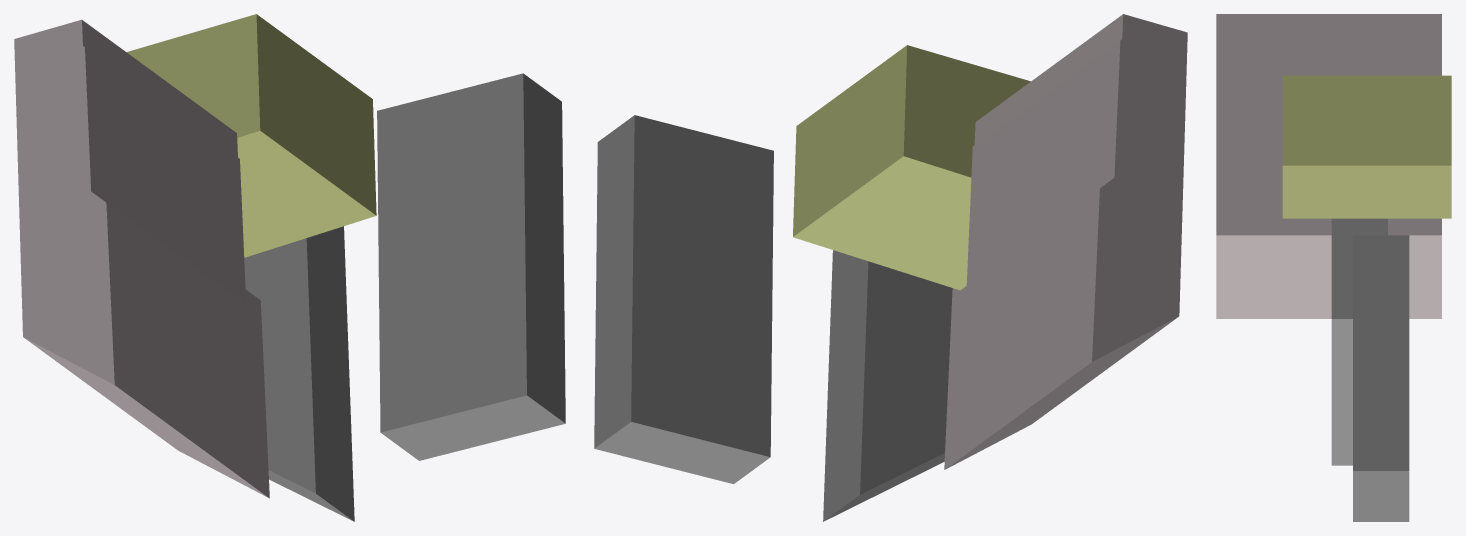
The picture shows the model from 3 angles, left to right: view 1: azimuth 30°, elevation 25°; view 2: azimuth 150°, elevation 25°; view 3: azimuth 270°, elevation 25°; orthographic projection. The views are drawn at different scales.
Visible parts, largest first — view 1: 0_1_2_0_3_3_1_3_0; view 2: 0_1_2_0_3_3_1_3_0; view 3: 0_1_2_0_3_3_1_3_0.
Boxes of the visible parts, <box> form: 0_1_2_0_3_3_1_3_0: <box>14,14,565,521</box>; 0_1_2_0_3_3_1_3_0: <box>594,14,1187,521</box>; 0_1_2_0_3_3_1_3_0: <box>1216,14,1451,521</box>.
Bounding box in the file's own units: 21.91 × 21.12 × 12.52.
